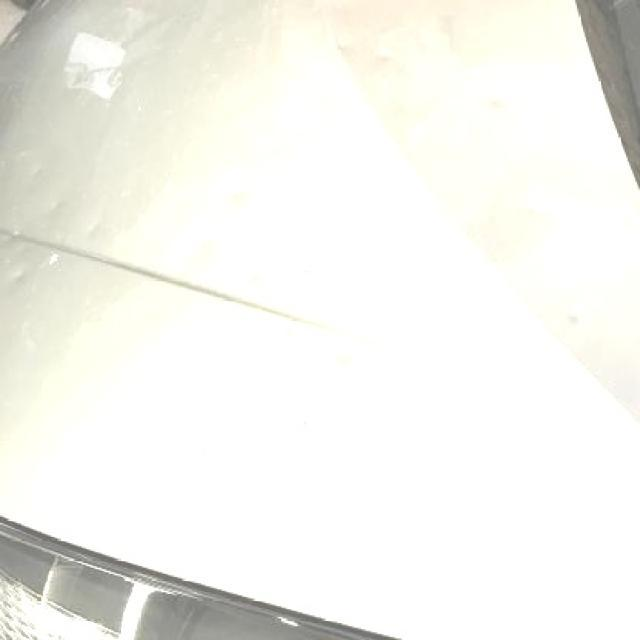dent: (30, 166, 46, 182), (10, 269, 27, 283), (50, 200, 67, 211)
